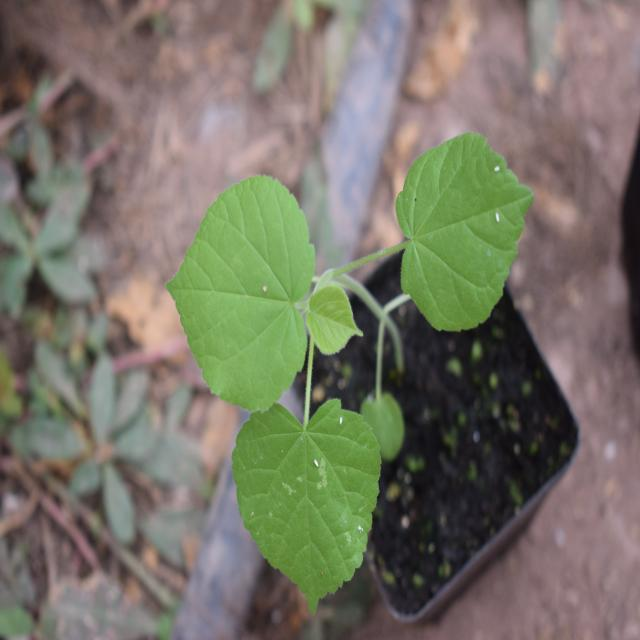abutilon theophrasti: (168, 135, 525, 582)
